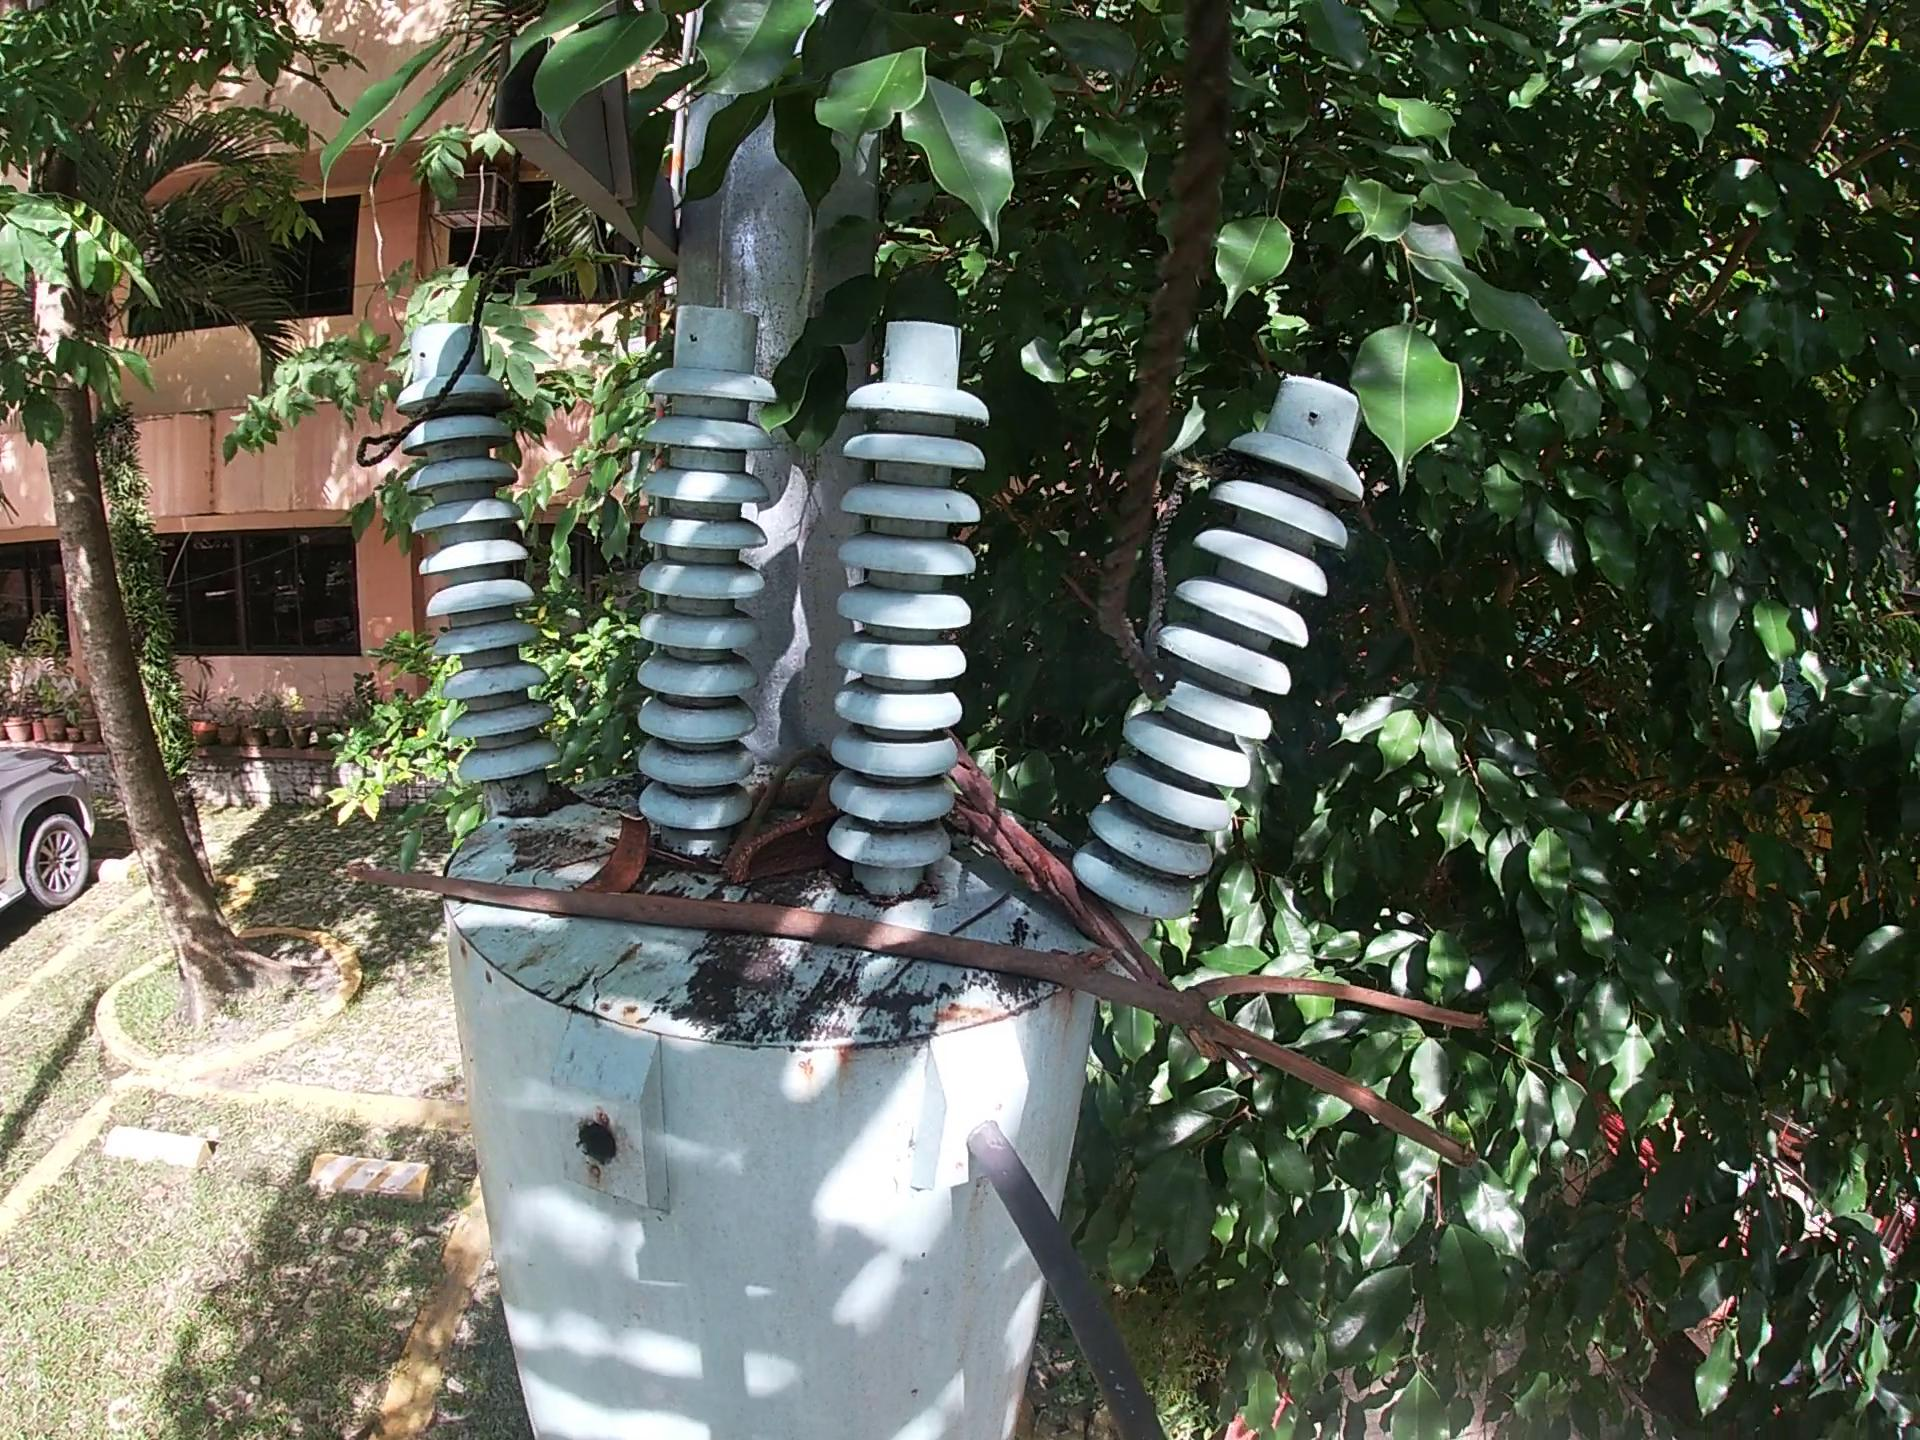mahogany fruit: (718, 808, 853, 900), (568, 811, 658, 898)
tree branch: (345, 858, 1497, 1180), (945, 729, 1256, 1080), (720, 746, 838, 880)
